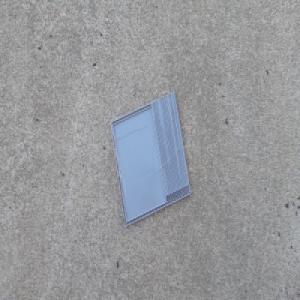PlasticPart: (109, 90, 192, 229)
